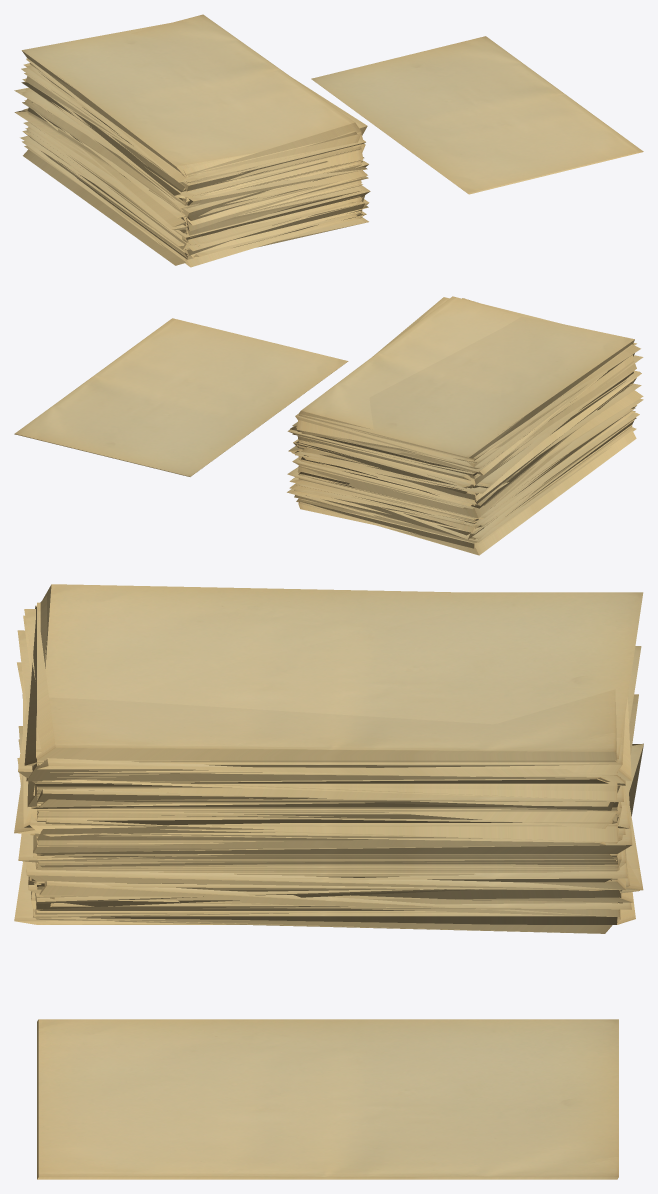
Rendered from paper.fbx.
The picture shows the model from 3 angles, top to bottom: view 1: azimuth 30°, elevation 25°; view 2: azimuth 150°, elevation 25°; view 3: azimuth 270°, elevation 25°; orthographic projection. The views are drawn at different scales.
Parts seen in each view (by area): view 1: paper1, paper; view 2: paper1, paper; view 3: paper1, paper.
Boxes of the visible parts, x1=… form: paper1: x1=14, y1=14, x2=370, y2=267; paper: x1=311, y1=36, x2=643, y2=194; paper1: x1=287, y1=296, x2=643, y2=555; paper: x1=14, y1=318, x2=348, y2=476; paper1: x1=14, y1=584, x2=643, y2=933; paper: x1=37, y1=1019, x2=618, y2=1179.
Size of the model in its own units: 346 by 71.85 by 217.
